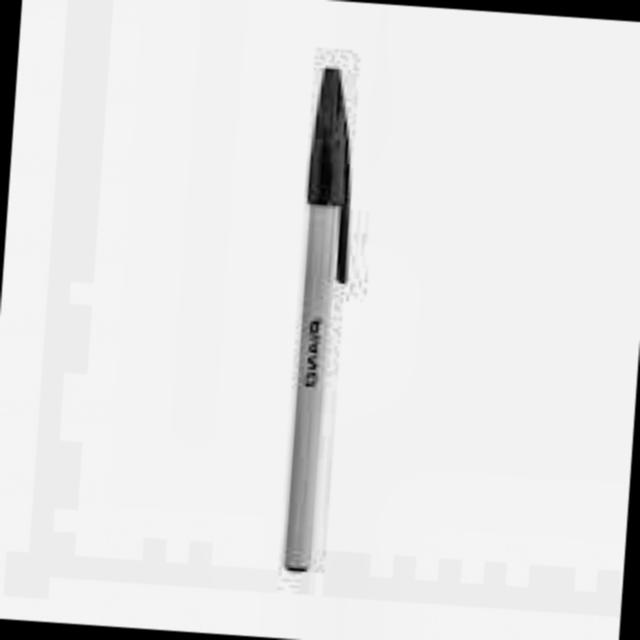Pen: (258, 62, 384, 590)
